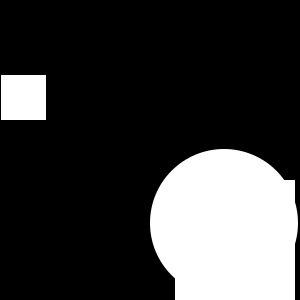circle: (175, 180, 295, 300), (1, 75, 46, 120)
rectangle: (150, 149, 298, 297)
